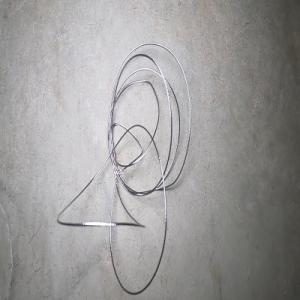Wire: (56, 42, 191, 295)
